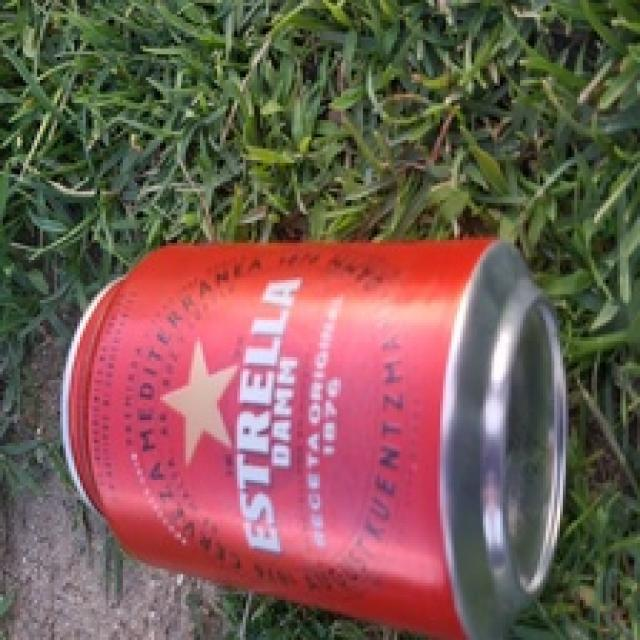recyclable: (57, 237, 566, 640)
